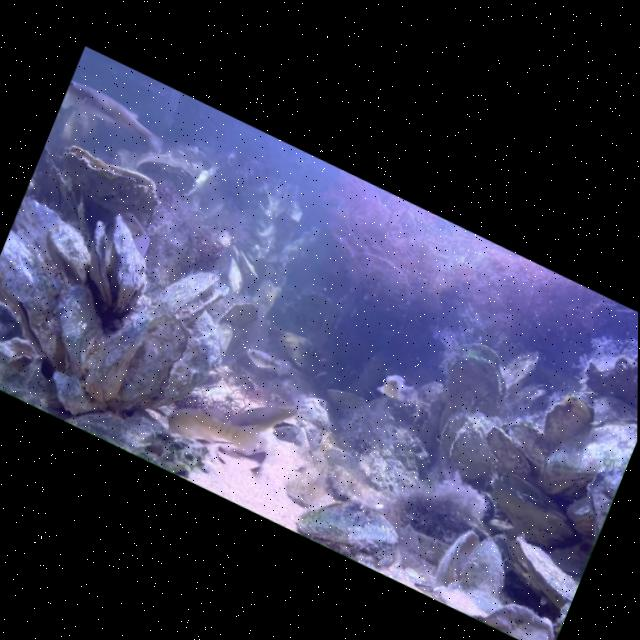Oyster-Closed: (535, 382, 638, 523), (54, 137, 166, 222), (116, 302, 194, 421), (79, 290, 156, 410), (479, 475, 583, 563), (498, 532, 586, 616), (21, 144, 101, 232), (535, 383, 601, 463)
Oyster-Indeterminate: (0, 228, 102, 375), (158, 303, 236, 422), (38, 276, 117, 385), (34, 215, 102, 290), (476, 421, 544, 485), (498, 340, 543, 402), (0, 295, 29, 384)
Oyster-Open: (66, 203, 166, 329), (429, 520, 518, 620), (152, 251, 234, 341), (435, 329, 507, 418), (131, 139, 203, 203), (267, 413, 307, 450)
